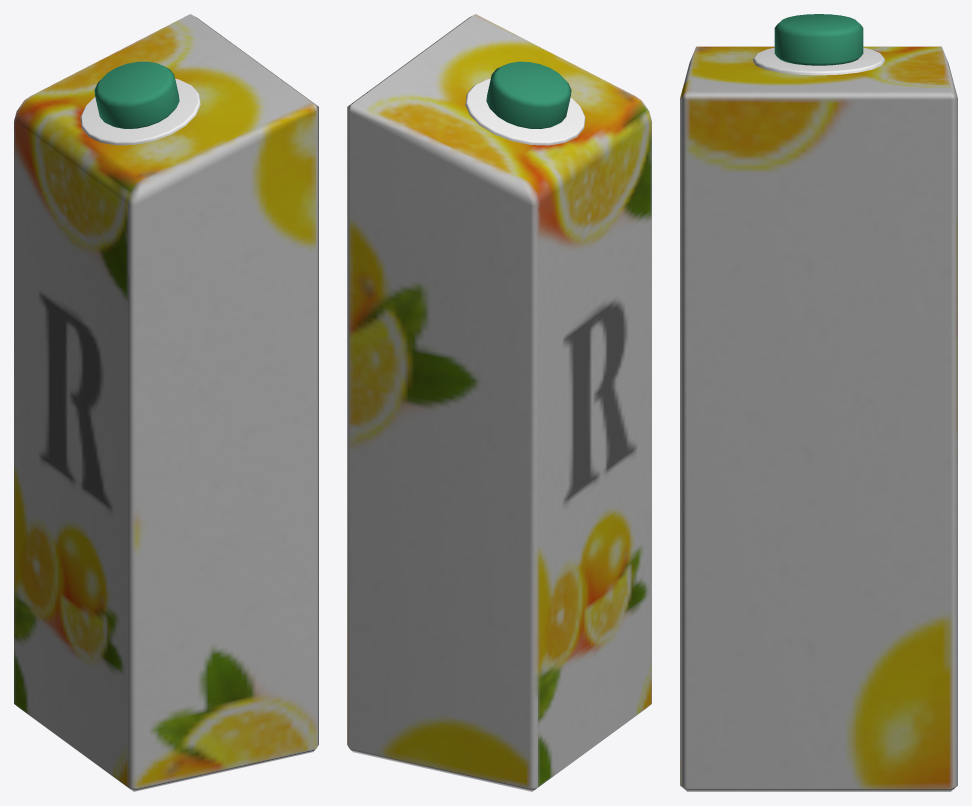
The model's file is SM_Juice_01.fbx.
The picture shows the model from 3 angles, left to right: view 1: azimuth 30°, elevation 25°; view 2: azimuth 150°, elevation 25°; view 3: azimuth 270°, elevation 25°; orthographic projection. The views are drawn at different scales.
Parts seen in each view (by area): view 1: SM_Juice_01_LOD0; view 2: SM_Juice_01_LOD0; view 3: SM_Juice_01_LOD0.
Part boxes in pixels (box(x1,y1,x2,y2)): SM_Juice_01_LOD0: box(14, 14, 318, 791); SM_Juice_01_LOD0: box(347, 14, 651, 791); SM_Juice_01_LOD0: box(680, 14, 957, 791).
Size of the model in its own units: 5.88 by 7.01 by 19.9.
1 material, 1 textured.
